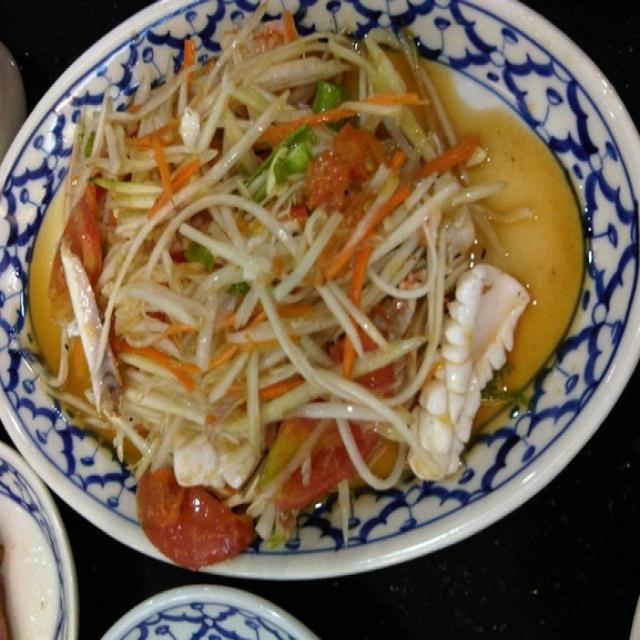蔬菜料理: (11, 13, 621, 594)
